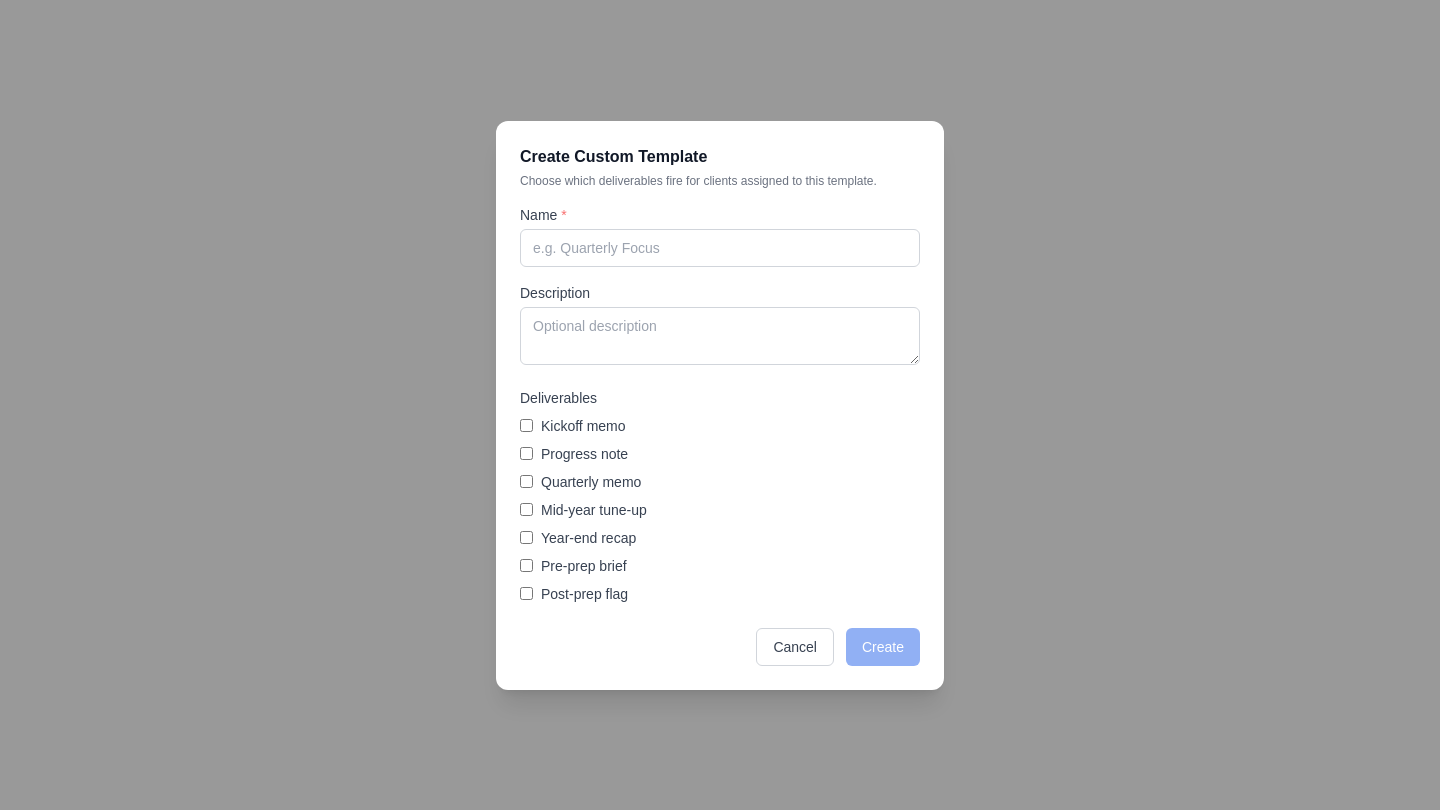
Test: CreateTemplateDialog › backend error renders inline
In the field with placeholder "e.g. Quarterly Focus": (720, 248) top-left (520, 228), bottom-right (920, 266), type "Duplicate"
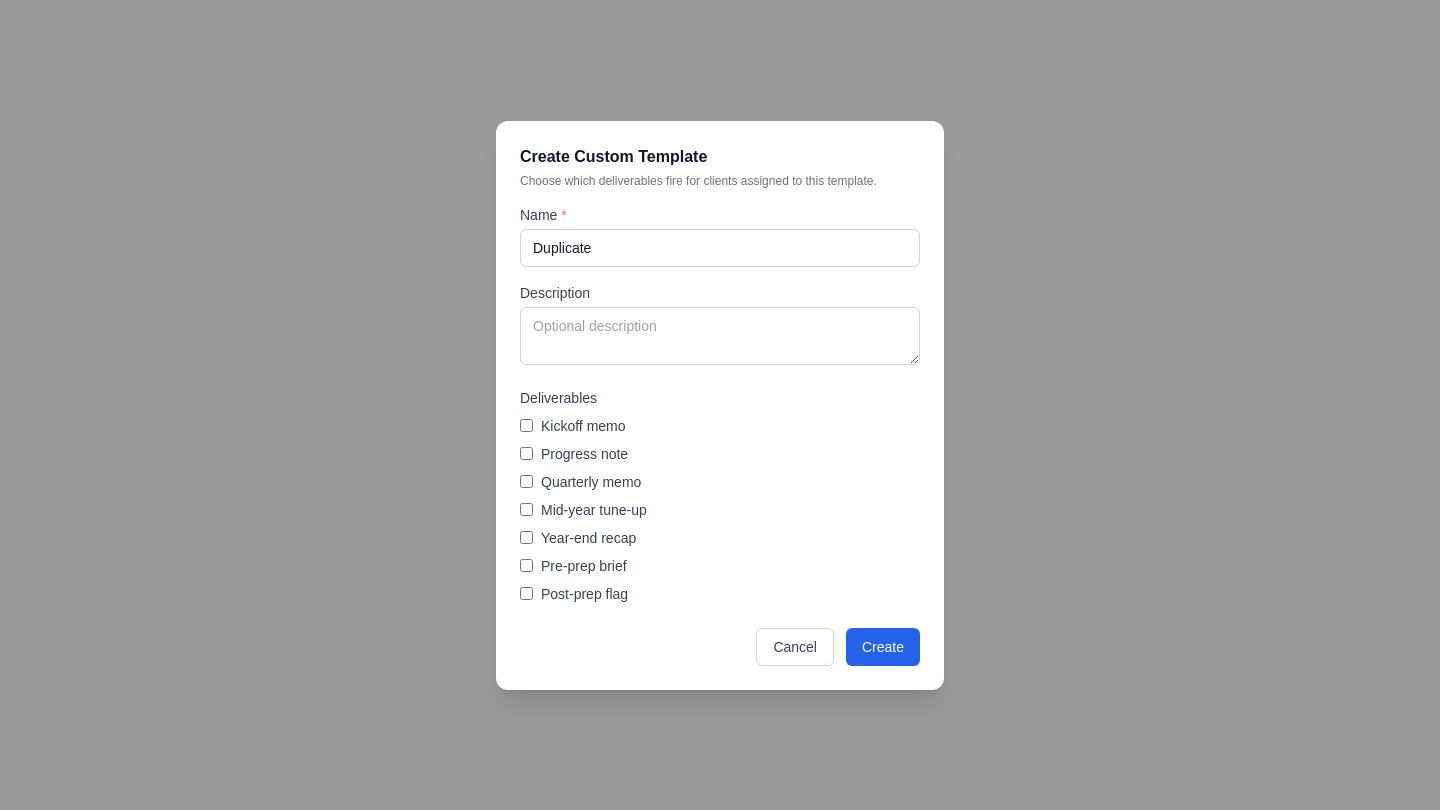
Click the button "Create": (883, 646) top-left (846, 628), bottom-right (920, 666)
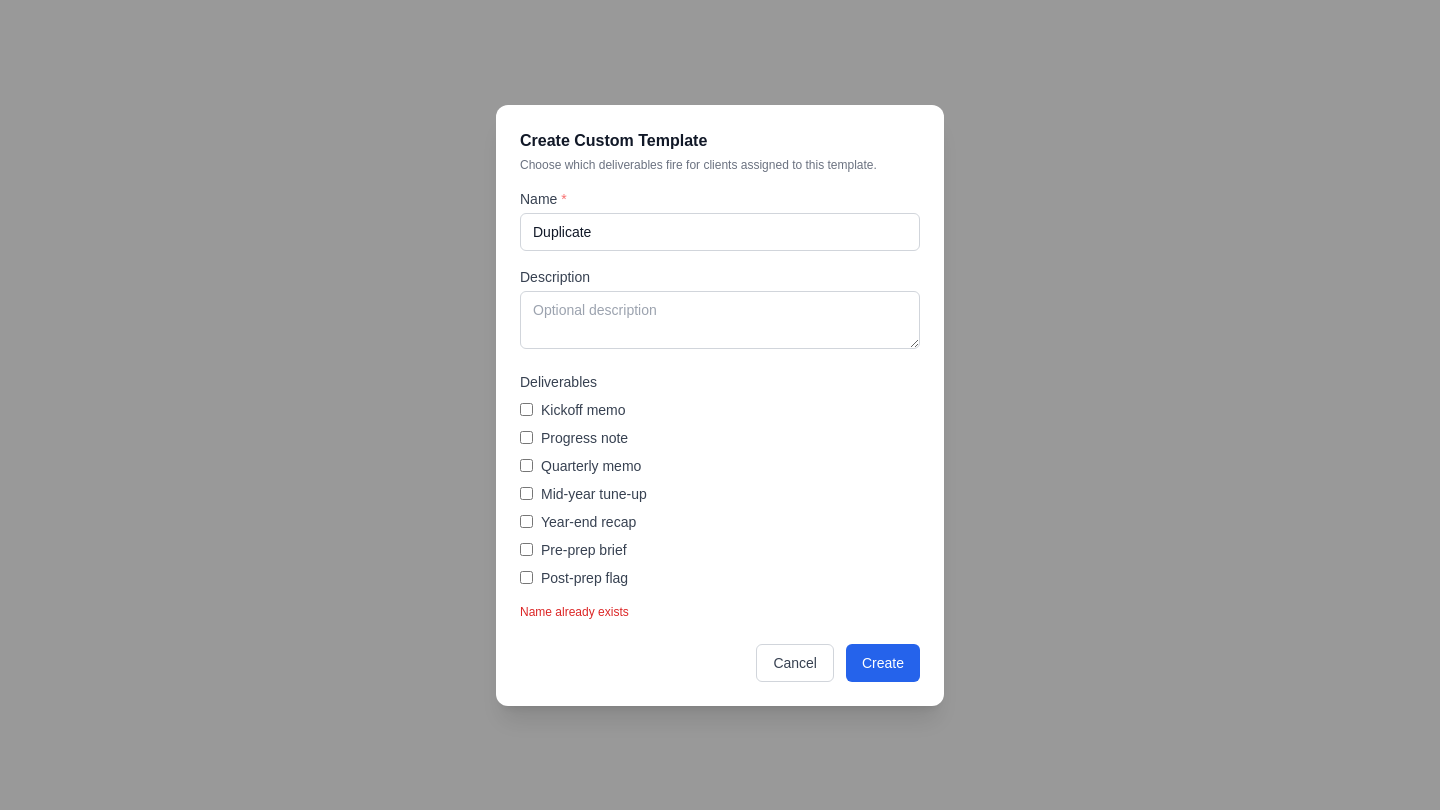
Check: the text "Name already exists" is shown, box top-left (520, 604), bottom-right (629, 618)
